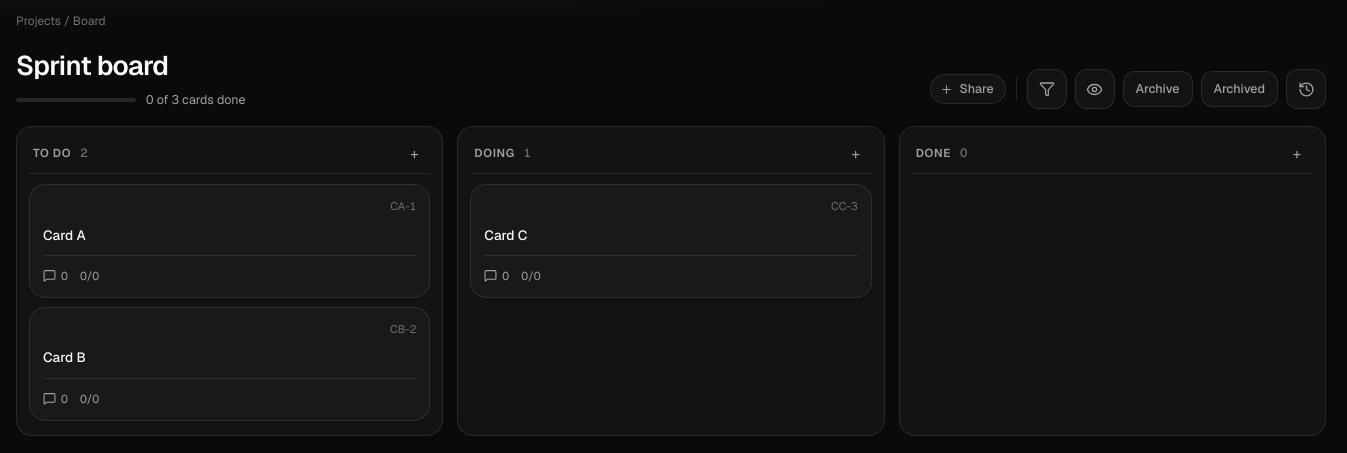
Test: ProjectBoard › clears activity loading and shows an error when the list rejects
Click the button named "Activity log": coordinates (1306, 89) x1=1286 y1=69 x2=1326 y2=109
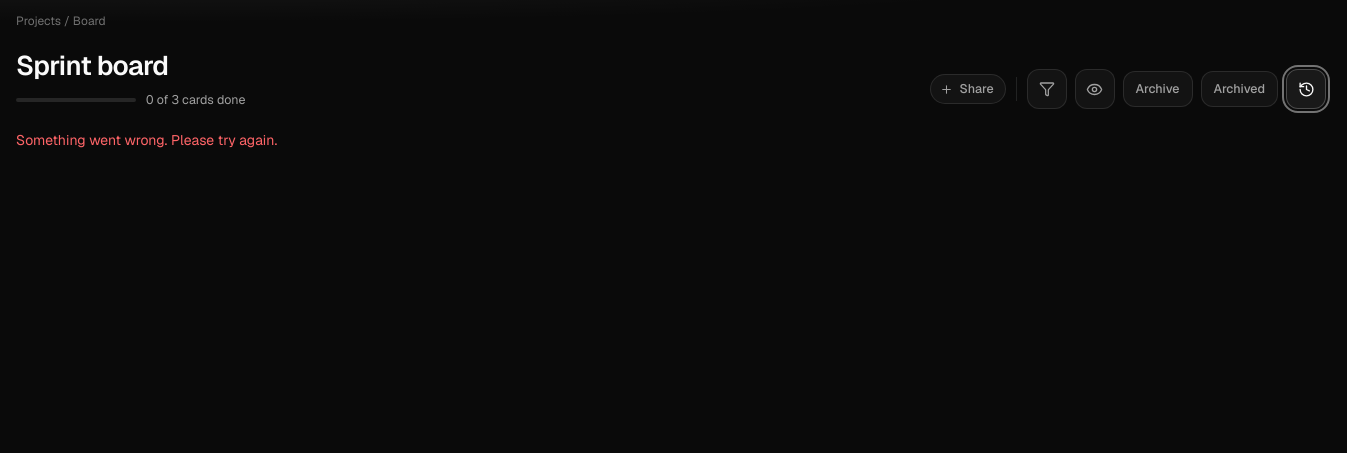
expect the message reads "Something went wrong. Please try again.": met, box x1=16 y1=131 x2=277 y2=149
